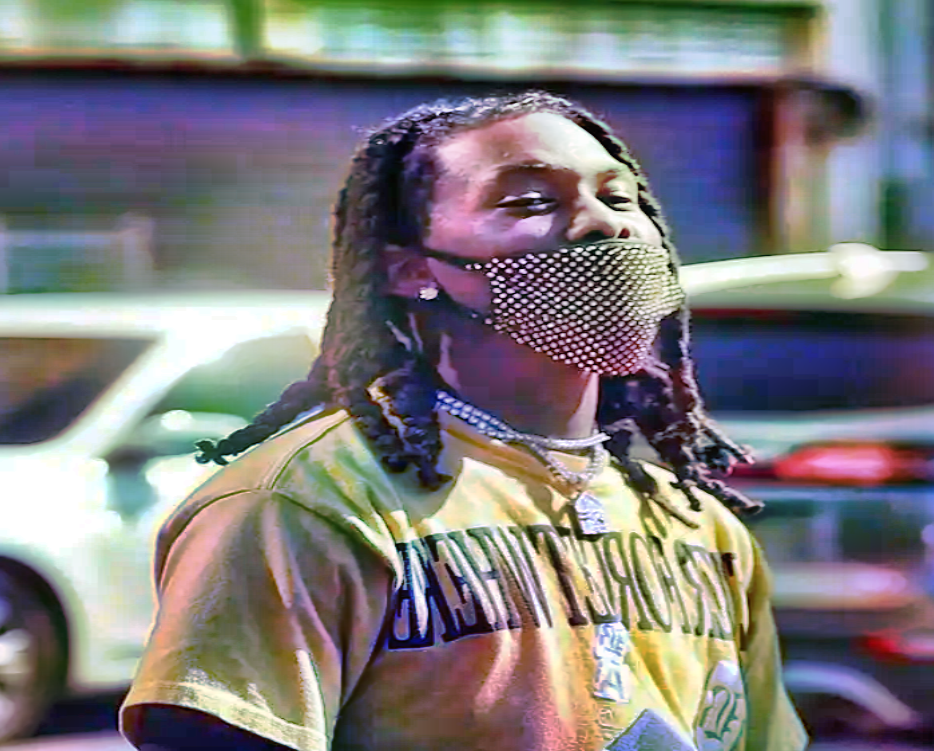mask_weared_incorrect: (338, 90, 691, 377)
